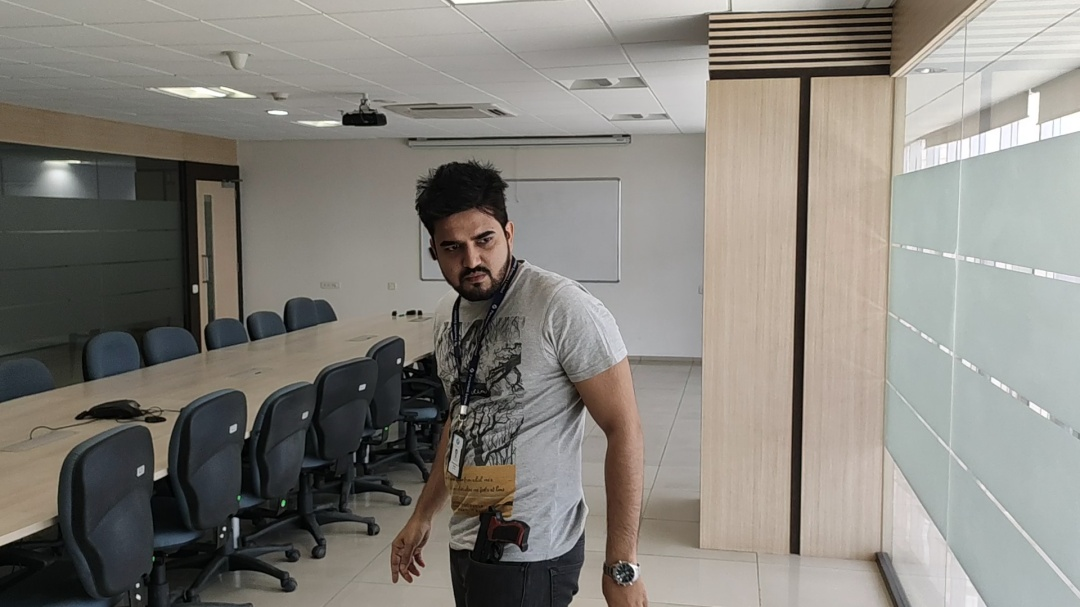gun: (473, 506, 530, 564)
